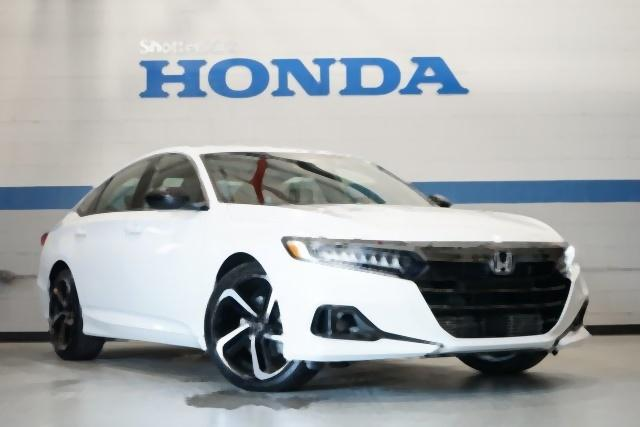Car hood: (220, 197, 566, 254)
Driver-s door - -F-R-: (116, 135, 214, 354)
Fender - -F-R-: (180, 193, 283, 336)
Fender - -R-R-: (32, 194, 94, 303)
Front bumper: (265, 263, 594, 364)
Headlight - -R-: (279, 233, 428, 282)
Passenger-s door - -R-R-: (71, 145, 163, 348)
Side bumper - -R-: (77, 298, 216, 355)
Side mirror - -R-: (141, 185, 206, 211)
